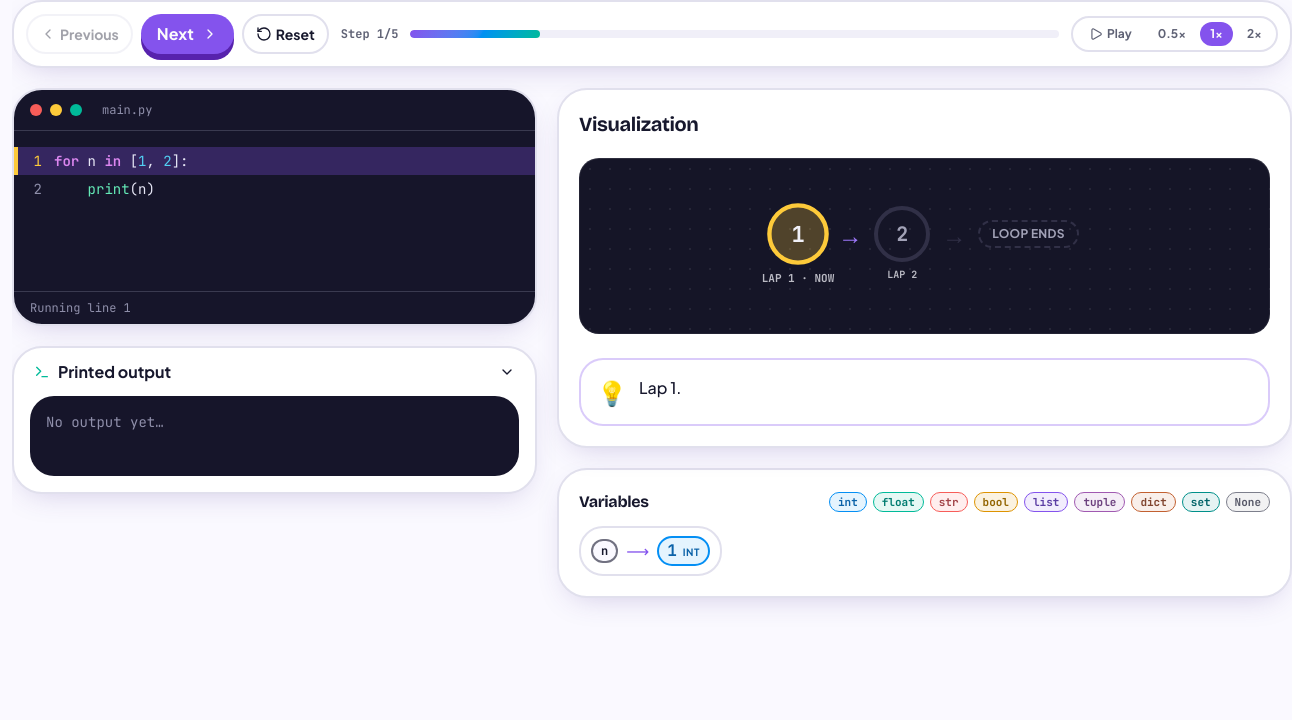
Test: execution events › marks lines that run again inside a loop
What coordinates should you click on to do the following:
click the button named "Next step"
I would click on:
 (187, 34)
Its box is left=141, top=14, right=234, bottom=54.
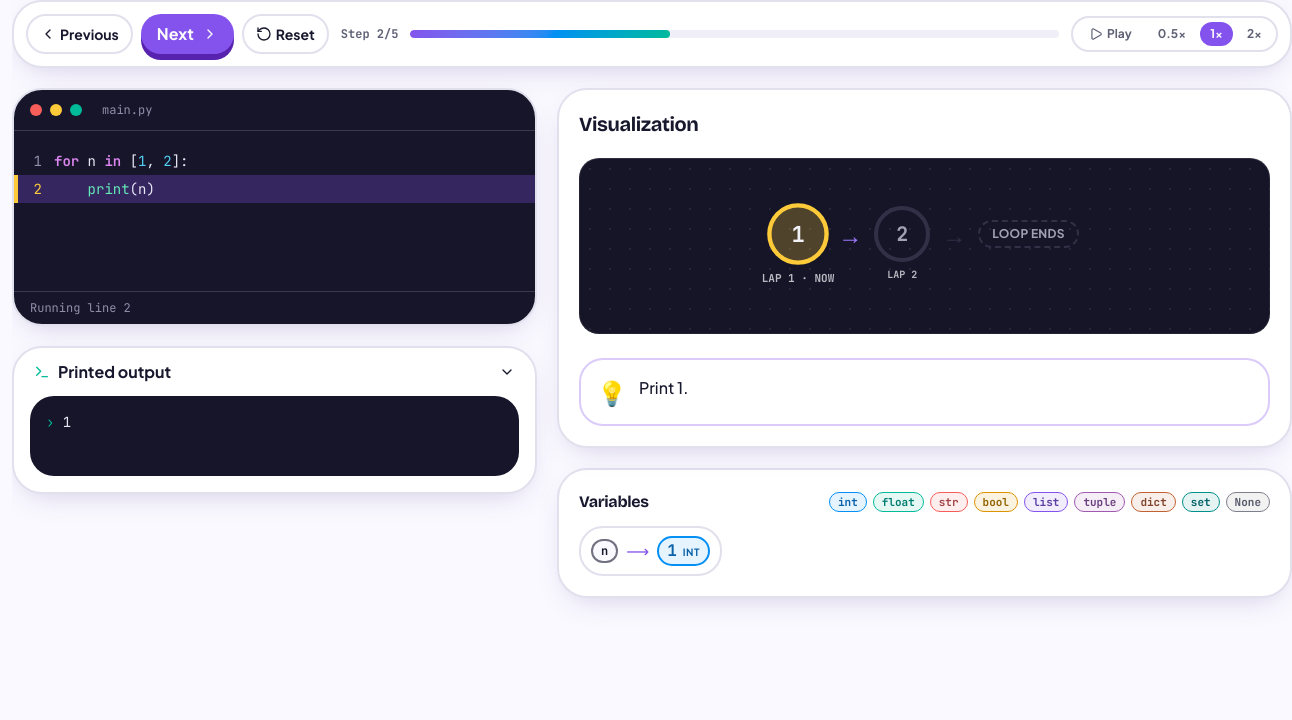
What coordinates should you click on to do the following:
click the button named "Next step"
I would click on:
 (187, 34)
Its box is left=141, top=14, right=234, bottom=54.
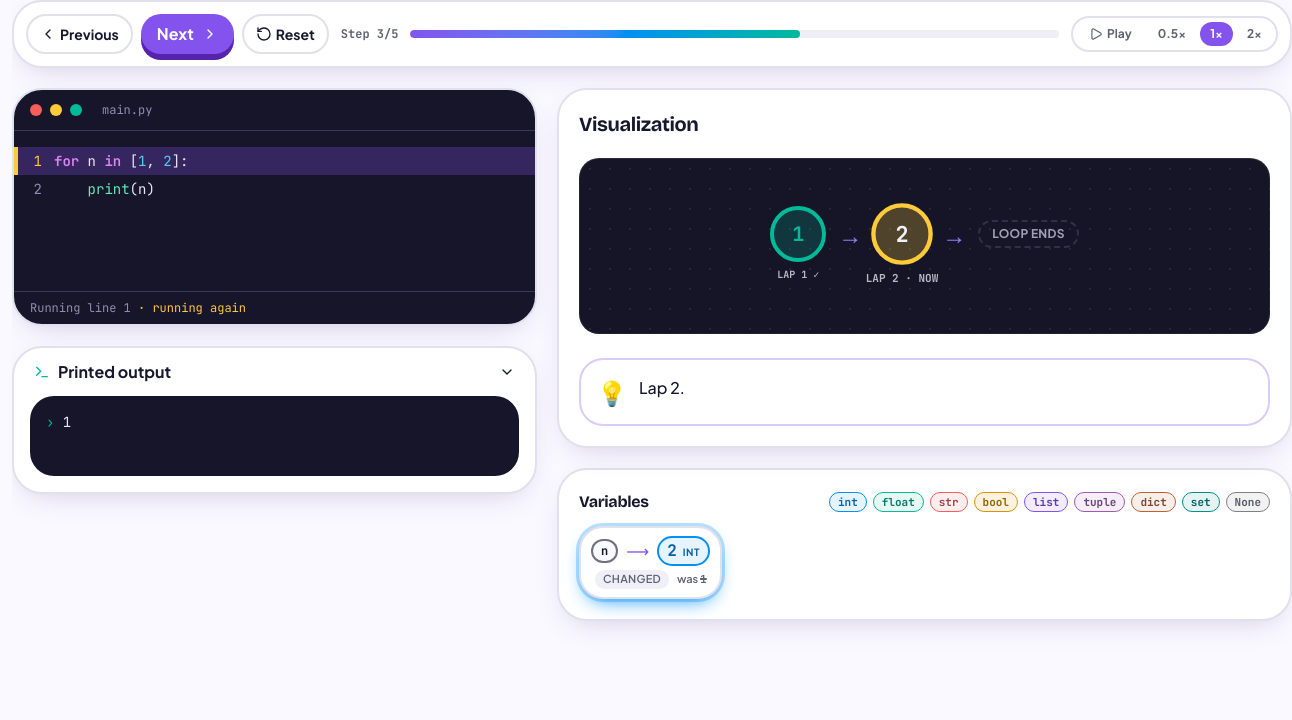
Result: the text "· running again" is shown at left=131, top=300, right=246, bottom=316
What coordinates should you click on to do the following:
click the button named "Next step"
I would click on:
 (187, 34)
Its box is left=141, top=14, right=234, bottom=54.
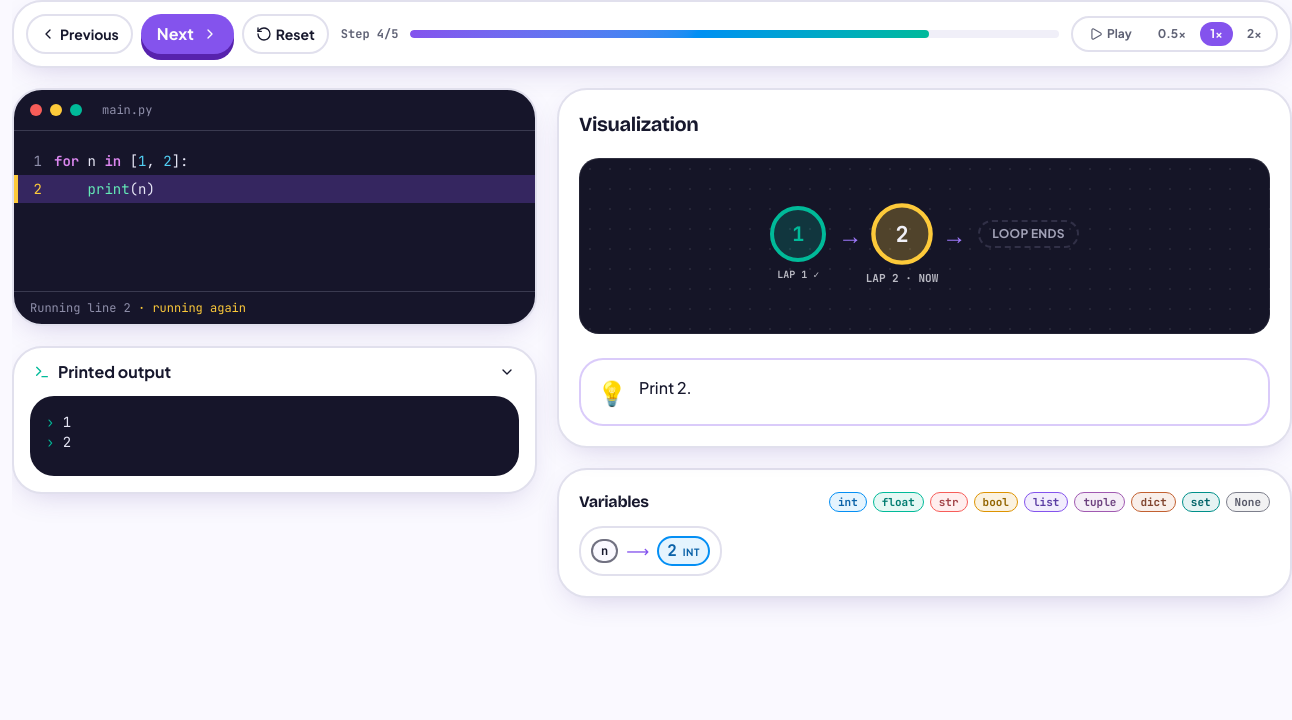
What coordinates should you click on to do the following:
click the button named "Next step"
I would click on:
 (187, 34)
Its box is left=141, top=14, right=234, bottom=54.
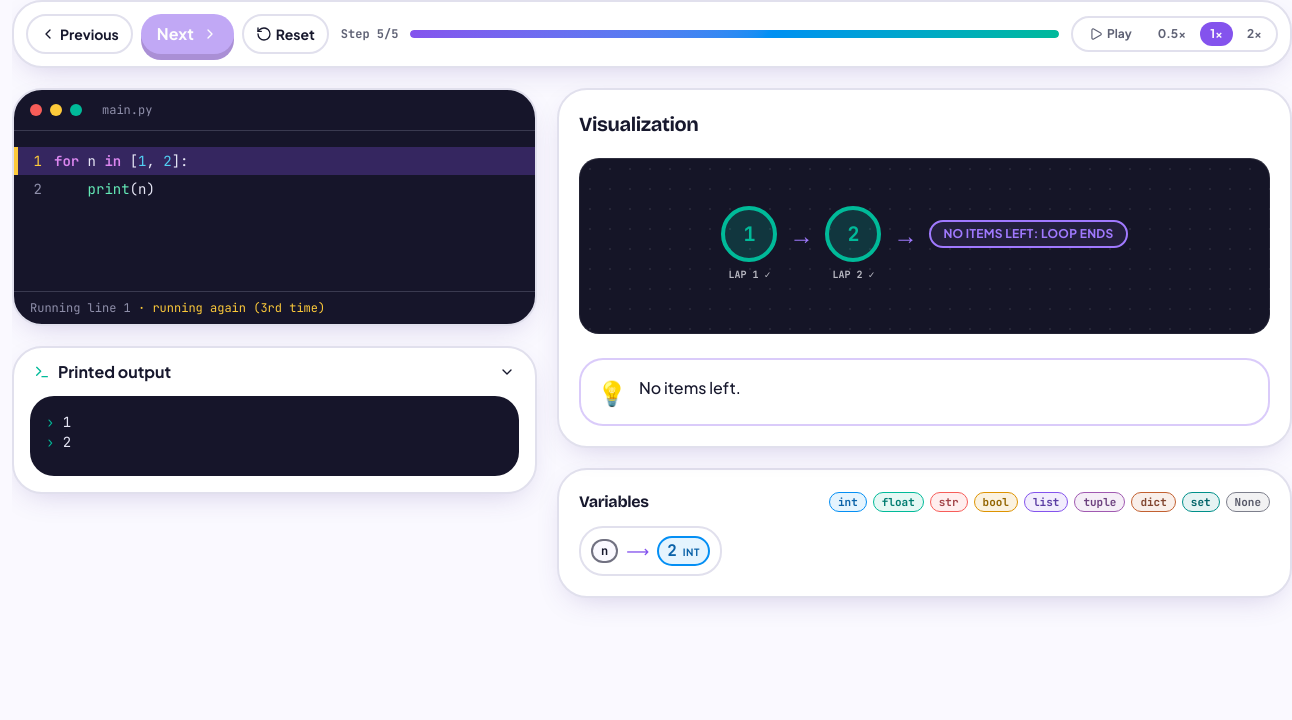
Result: the text "· running again (3rd time)" is shown at left=131, top=300, right=325, bottom=316
Result: the text "No items left: loop ends" is shown at left=929, top=220, right=1128, bottom=248
